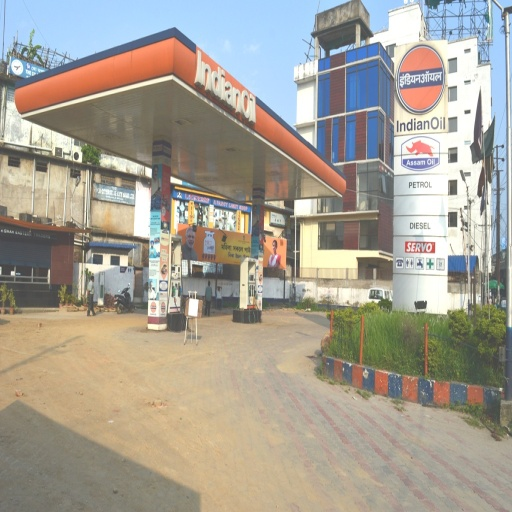roof: (15, 28, 345, 203)
